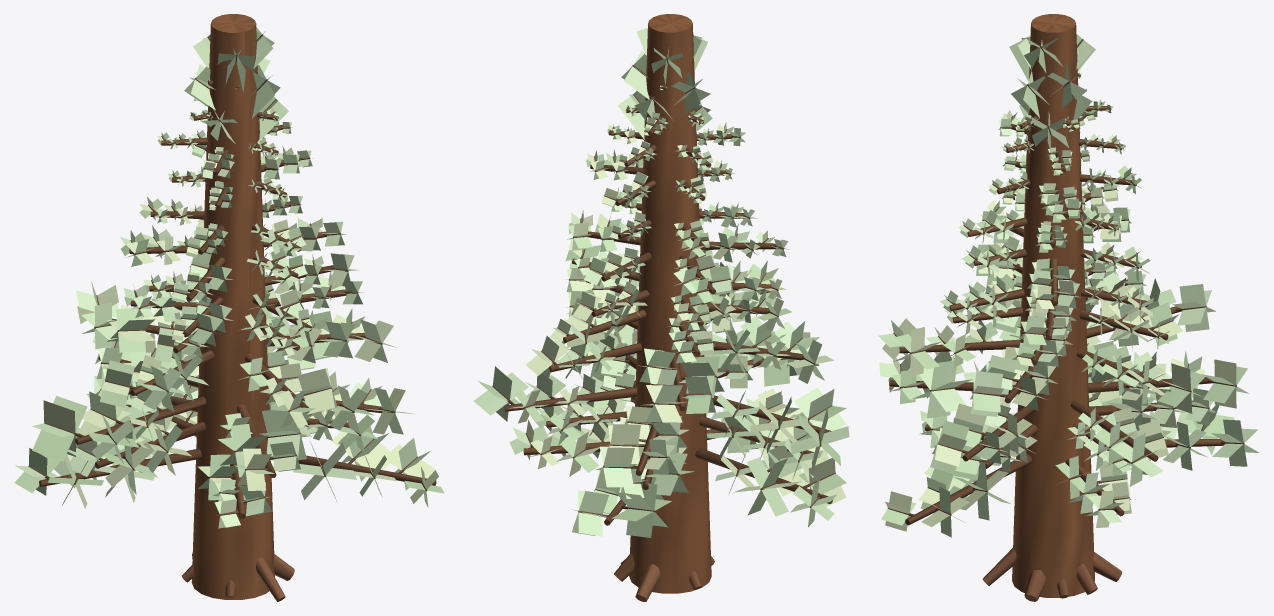
The model's file is standard-lod0.glb.
3 renders of one model, left to right at view 1: azimuth 30°, elevation 25°; view 2: azimuth 150°, elevation 25°; view 3: azimuth 270°, elevation 25°, orthographic.
Parts seen in each view (by area): view 1: pine-terminal-needle-sprigs, pine-trunk-branches-buried-roots-ground-blend; view 2: pine-terminal-needle-sprigs, pine-trunk-branches-buried-roots-ground-blend; view 3: pine-terminal-needle-sprigs, pine-trunk-branches-buried-roots-ground-blend.
Boxes of the visible parts, left/top/right/bottom form: pine-terminal-needle-sprigs: left=14, top=27, right=444, bottom=528; pine-trunk-branches-buried-roots-ground-blend: left=28, top=14, right=436, bottom=601; pine-terminal-needle-sprigs: left=474, top=27, right=849, bottom=537; pine-trunk-branches-buried-roots-ground-blend: left=492, top=14, right=835, bottom=601; pine-terminal-needle-sprigs: left=878, top=34, right=1258, bottom=537; pine-trunk-branches-buried-roots-ground-blend: left=887, top=14, right=1244, bottom=601.
Size of the model in its own units: 12.24 by 19.23 by 11.89.
